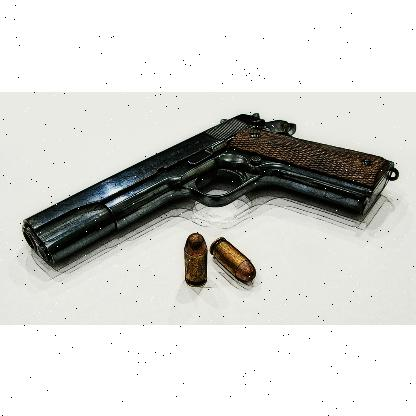gun: (21, 112, 398, 264)
